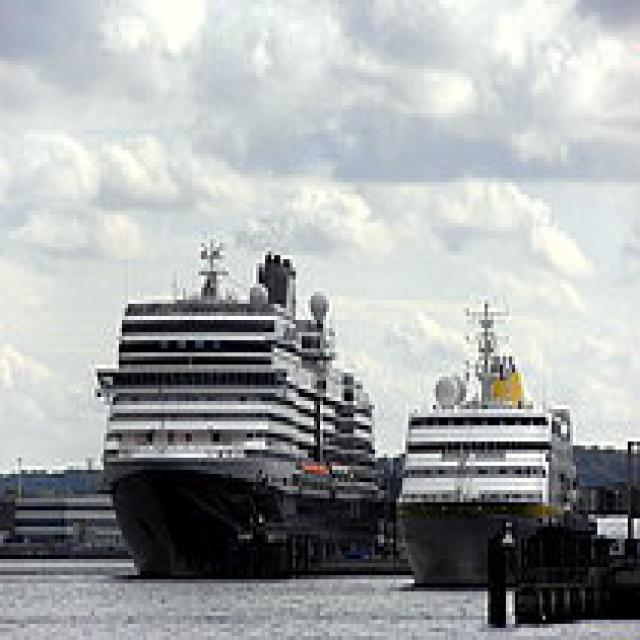Ship: (89, 236, 382, 577), (388, 289, 583, 585)
